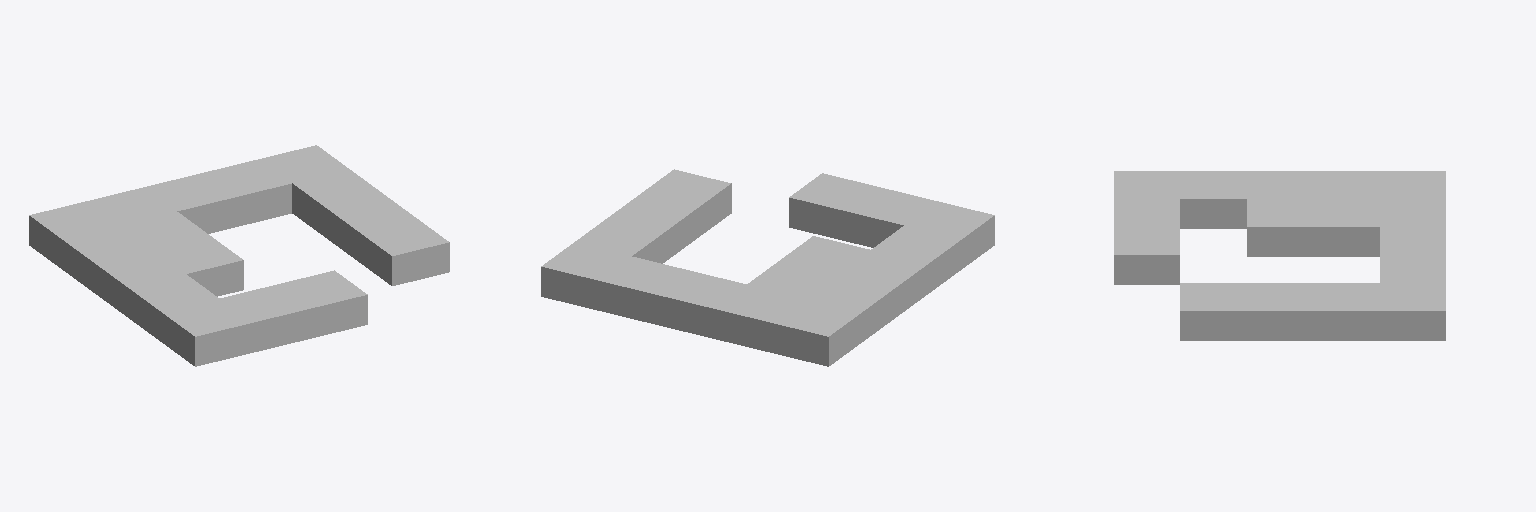
The model's file is 61f_block.obj.
3 renders of one model, left to right at view 1: azimuth 30°, elevation 25°; view 2: azimuth 150°, elevation 25°; view 3: azimuth 270°, elevation 25°, orthographic.
Parts seen in each view (by area): view 1: foil.block.0.0_block.4608, foil.block.4.1_block.4621, foil.block.2.0_block.4618, foil.block.1.0_block.4613, foil.block.3.4_block.4620, foil.block.1.2_block.4615, foil.block.2.4_block.4619, foil.block.4.3_block.4623, foil.block.0.3_block.4611, foil.block.0.4_block.4612, foil.block.0.2_block.4610, foil.block.0.1_block.4609 (+4 smaller); view 2: foil.block.0.4_block.4612, foil.block.2.0_block.4618, foil.block.4.4_block.4624, foil.block.2.4_block.4619, foil.block.1.4_block.4617, foil.block.3.4_block.4620, foil.block.1.0_block.4613, foil.block.4.1_block.4621, foil.block.0.1_block.4609, foil.block.0.0_block.4608, foil.block.0.2_block.4610, foil.block.0.3_block.4611 (+4 smaller); view 3: foil.block.0.1_block.4609, foil.block.1.3_block.4616, foil.block.4.1_block.4621, foil.block.4.3_block.4623, foil.block.1.2_block.4615, foil.block.2.0_block.4618, foil.block.4.2_block.4622, foil.block.4.4_block.4624, foil.block.0.3_block.4611, foil.block.0.0_block.4608, foil.block.0.2_block.4610, foil.block.0.4_block.4612 (+4 smaller).
Boxes of the visible parts, x1,y1,x2,y2 form: foil.block.0.0_block.4608: [162, 298, 252, 366]; foil.block.4.1_block.4621: [359, 218, 449, 285]; foil.block.2.0_block.4618: [277, 270, 367, 338]; foil.block.1.0_block.4613: [220, 285, 309, 352]; foil.block.3.4_block.4620: [202, 159, 291, 226]; foil.block.1.2_block.4615: [154, 236, 243, 296]; foil.block.2.4_block.4619: [145, 173, 234, 233]; foil.block.4.3_block.4623: [292, 169, 382, 237]; foil.block.0.3_block.4611: [62, 226, 152, 293]; foil.block.0.4_block.4612: [29, 201, 119, 268]; foil.block.0.2_block.4610: [96, 250, 184, 317]; foil.block.0.1_block.4609: [129, 274, 218, 341]; foil.block.0.4_block.4612: [771, 298, 861, 366]; foil.block.2.0_block.4618: [789, 173, 878, 241]; foil.block.4.4_block.4624: [541, 242, 631, 310]; foil.block.2.4_block.4619: [656, 270, 746, 338]; foil.block.1.4_block.4617: [714, 285, 803, 352]; foil.block.3.4_block.4620: [599, 257, 688, 324]; foil.block.1.0_block.4613: [847, 187, 936, 247]; foil.block.4.1_block.4621: [641, 169, 731, 237]; foil.block.0.1_block.4609: [871, 226, 961, 293]; foil.block.0.0_block.4608: [904, 201, 994, 268]; foil.block.0.2_block.4610: [839, 250, 927, 317]; foil.block.0.3_block.4611: [805, 274, 894, 341]; foil.block.0.1_block.4609: [1180, 171, 1246, 228]; foil.block.1.3_block.4616: [1313, 199, 1379, 256]; foil.block.4.1_block.4621: [1180, 283, 1246, 340]; foil.block.4.3_block.4623: [1313, 283, 1379, 340]; foil.block.1.2_block.4615: [1247, 199, 1312, 256]; foil.block.2.0_block.4618: [1114, 227, 1179, 284]; foil.block.4.2_block.4622: [1247, 283, 1312, 340]; foil.block.4.4_block.4624: [1380, 283, 1445, 340]; foil.block.0.3_block.4611: [1313, 171, 1379, 198]; foil.block.0.0_block.4608: [1114, 171, 1179, 198]; foil.block.0.2_block.4610: [1247, 171, 1312, 198]; foil.block.0.4_block.4612: [1380, 171, 1445, 198].
Bounding box in the file's own units: 10 × 1 × 10.